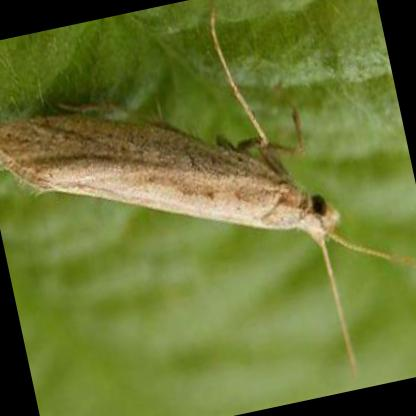plutella: (0, 0, 416, 379)
